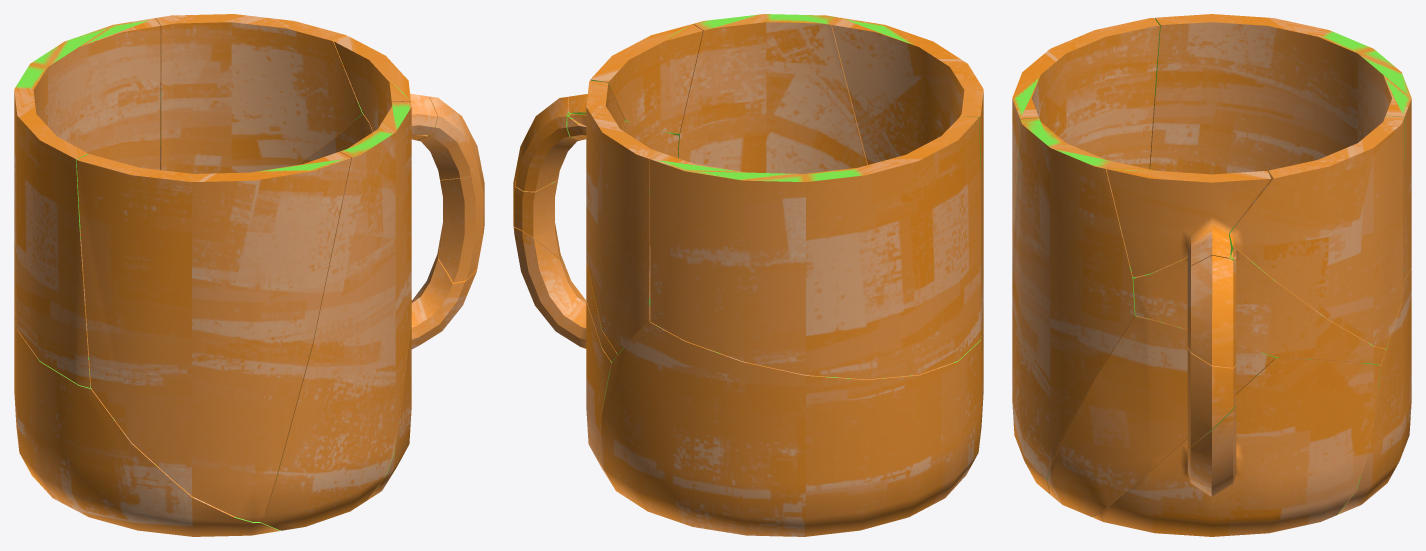
File: OrangeMug.obj
3 views of the same model, side by side, from view 1: azimuth 30°, elevation 25°; view 2: azimuth 150°, elevation 25°; view 3: azimuth 270°, elevation 25° (orthographic).
Visible parts, largest first — view 1: OrangeMug_cell.001, OrangeMug_cell.009, OrangeMug_cell.007, OrangeMug_cell.006, OrangeMug_cell.003, OrangeMug_cell.005, OrangeMug_cell.010, OrangeMug_cell.002, OrangeMug_cell, OrangeMug_cell.004, OrangeMug_cell.008; view 2: OrangeMug_cell.007, OrangeMug_cell.003, OrangeMug_cell.009, OrangeMug_cell.001, OrangeMug_cell.006, OrangeMug_cell.005, OrangeMug_cell.002, OrangeMug_cell, OrangeMug_cell.010, OrangeMug_cell.008; view 3: OrangeMug_cell.007, OrangeMug_cell.002, OrangeMug_cell.009, OrangeMug_cell.006, OrangeMug_cell.004, OrangeMug_cell.001, OrangeMug_cell.005, OrangeMug_cell.008, OrangeMug_cell.003, OrangeMug_cell, OrangeMug_cell.010.
Part boxes in pixels (x1,y1,x2,y2): OrangeMug_cell.001: (76,151,351,521); OrangeMug_cell.009: (260,101,411,530); OrangeMug_cell.007: (14,18,160,387); OrangeMug_cell.006: (155,14,362,173); OrangeMug_cell.003: (14,297,280,536); OrangeMug_cell.005: (334,36,437,135); OrangeMug_cell.010: (438,169,484,282); OrangeMug_cell.002: (395,225,477,469); OrangeMug_cell: (416,96,481,179); OrangeMug_cell.004: (367,320,411,500); OrangeMug_cell.008: (300,114,427,164); OrangeMug_cell.007: (650,116,981,379); OrangeMug_cell.003: (599,322,983,536); OrangeMug_cell.009: (671,14,867,173); OrangeMug_cell.001: (832,17,983,354); OrangeMug_cell.006: (569,80,662,354); OrangeMug_cell.005: (568,24,702,133); OrangeMug_cell.002: (513,227,611,475); OrangeMug_cell: (516,97,581,191); OrangeMug_cell.010: (513,170,565,267); OrangeMug_cell.008: (567,113,678,361); OrangeMug_cell.007: (1149,14,1411,278); OrangeMug_cell.002: (1093,358,1380,536); OrangeMug_cell.009: (1012,118,1136,493); OrangeMug_cell.006: (1229,115,1404,348); OrangeMug_cell.004: (1047,316,1274,517); OrangeMug_cell.001: (1012,17,1159,266); OrangeMug_cell.005: (1106,162,1270,277); OrangeMug_cell.008: (1133,249,1385,365); OrangeMug_cell.003: (1337,268,1411,514); OrangeMug_cell: (1187,255,1236,367); OrangeMug_cell.010: (1187,347,1236,447).
Bounding box in the file's own units: 1.33 × 1.03 × 1.04.
